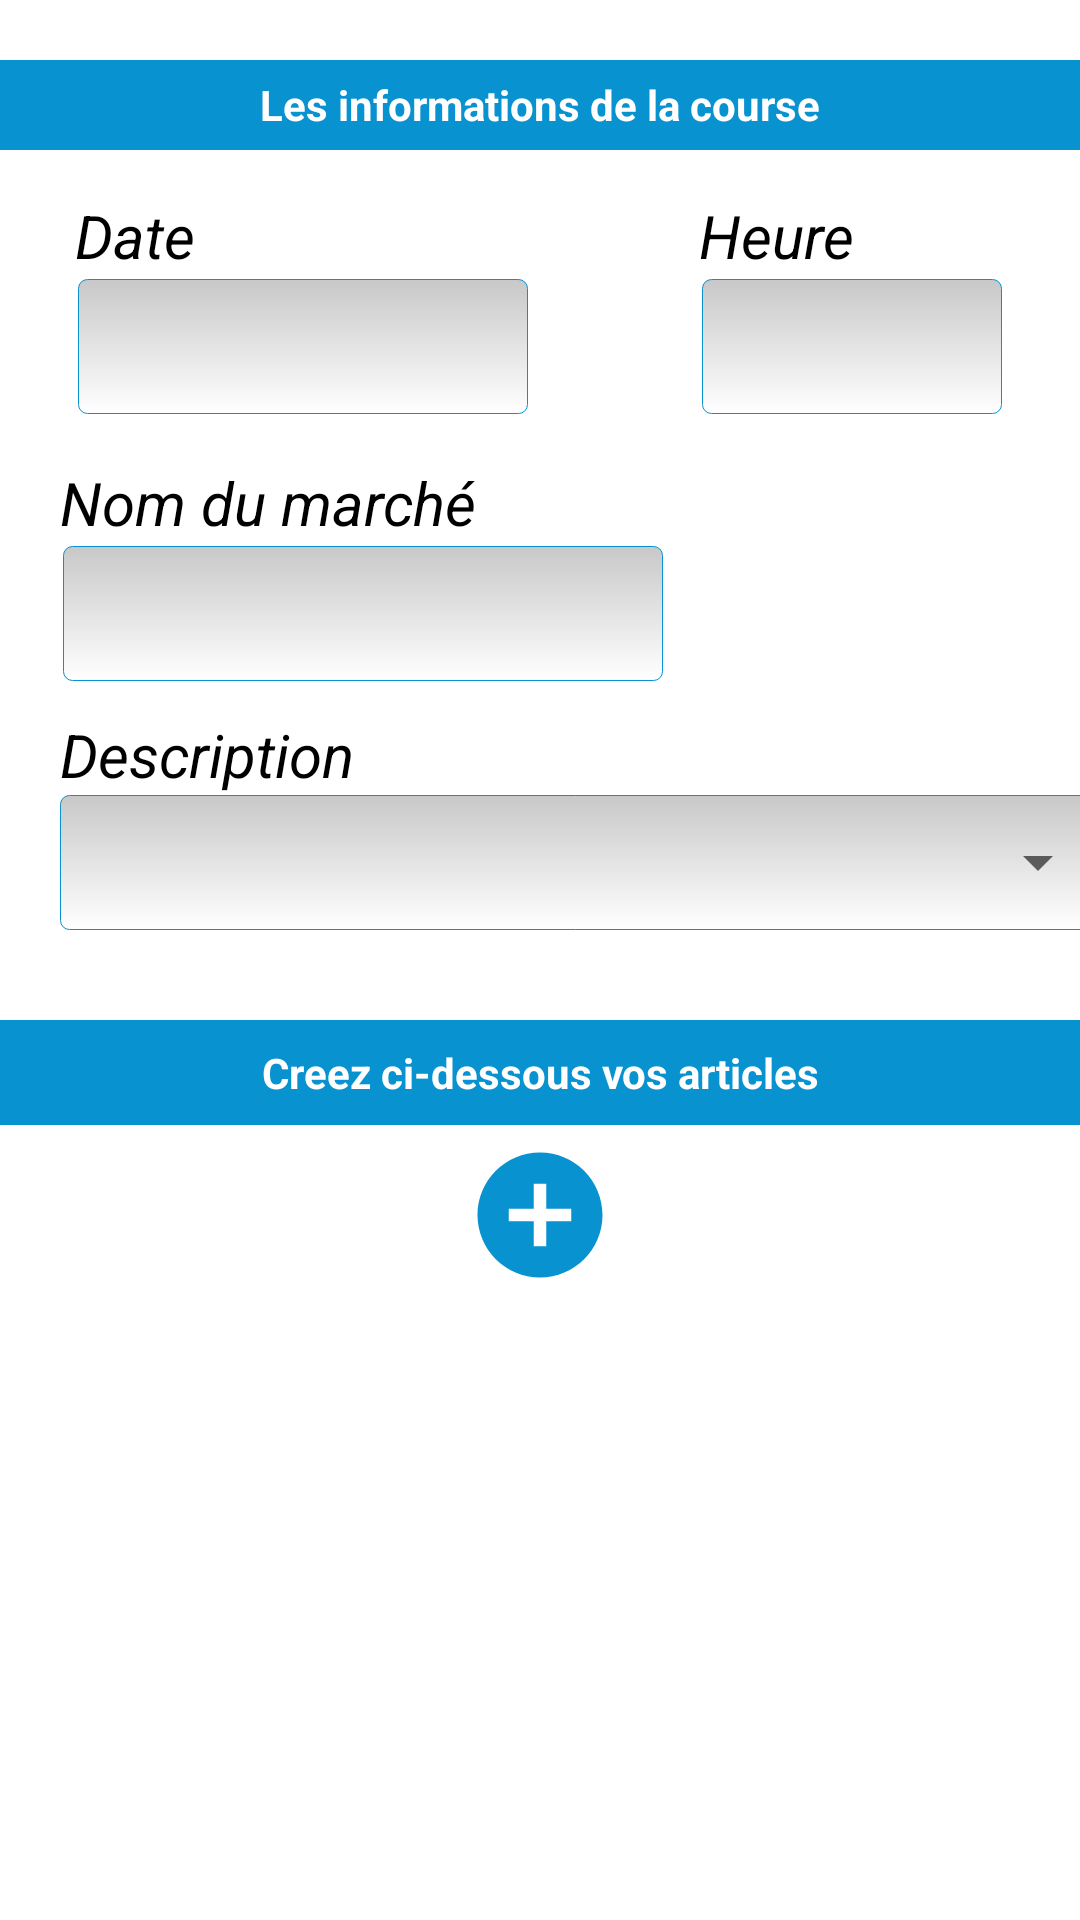

Screen size 1080×1920. Icon name, then its box in pixels as bbox=[x1, y1, x2, y2]:
add: bbox=[477, 1152, 603, 1278]
